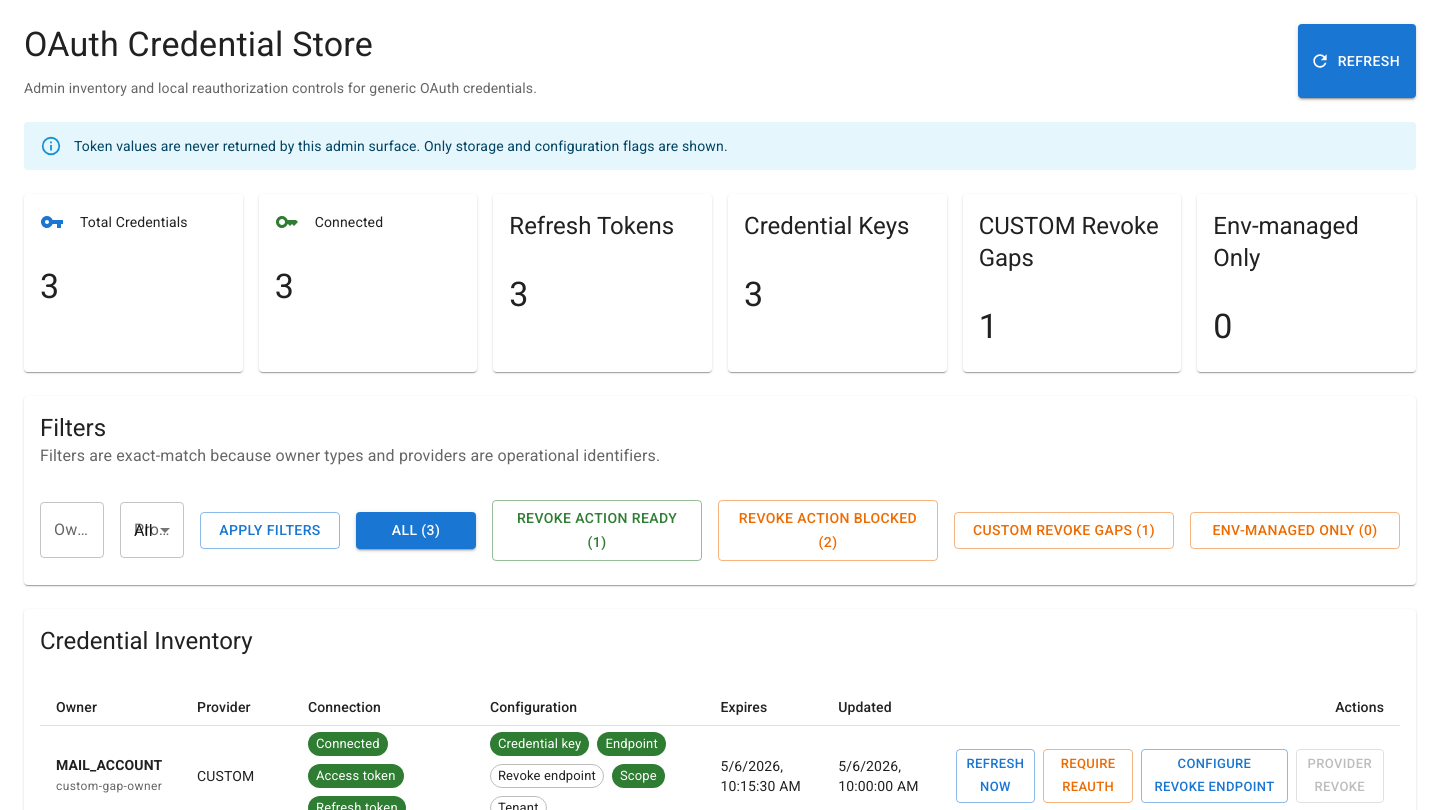
it: filters to CUSTOM credentials missing a revoke endpoint
Expected: the text "custom-gap-owner" is shown, [56, 779, 162, 793]
What coordinates should you click on to do the following:
click the button "CUSTOM revoke gaps (1)"
I would click on:
 (1064, 530)
Its box is [954, 512, 1174, 549].
(page scrolled)
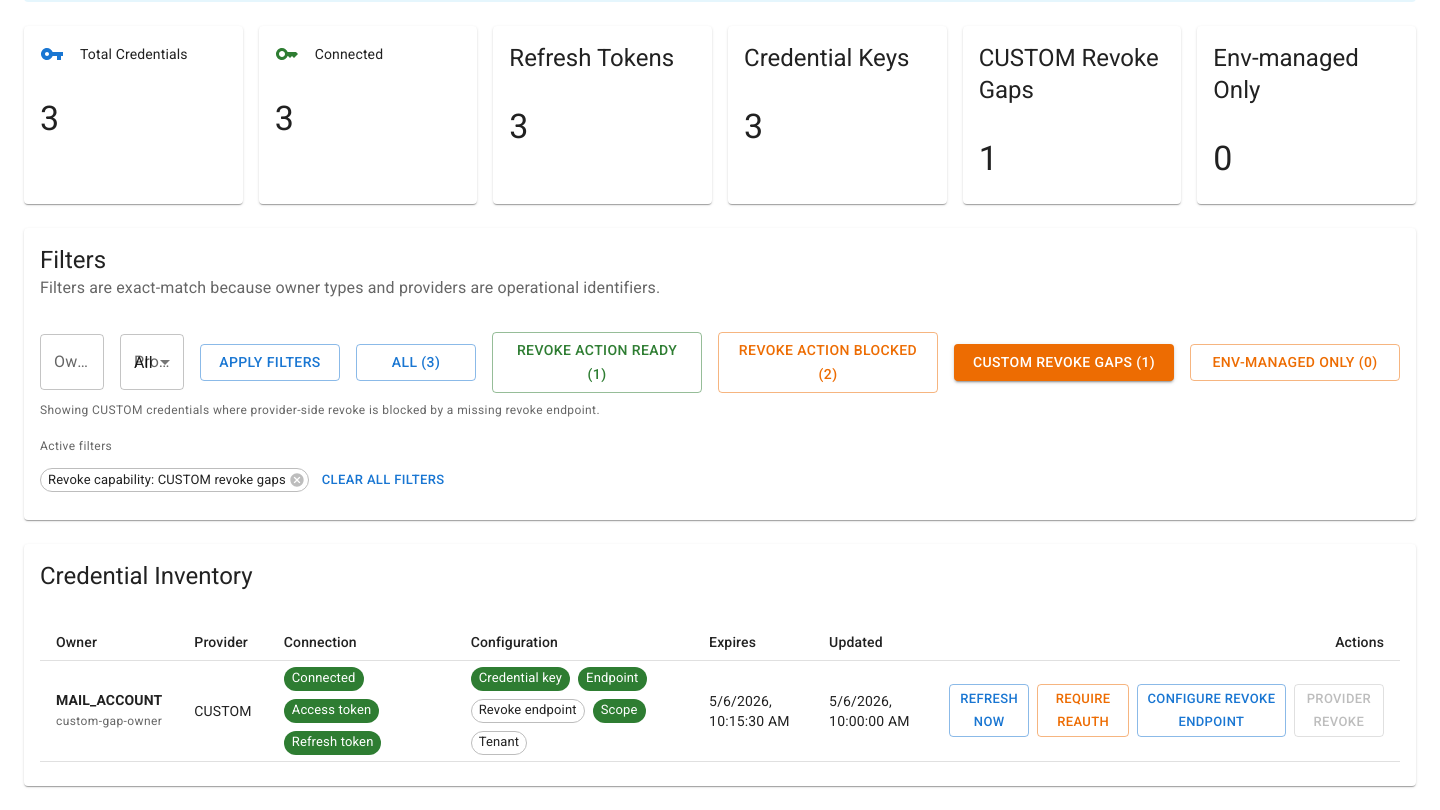
Expected: the text "custom-gap-owner" is shown, [56, 714, 162, 728]
Expected: the text "Showing CUSTOM credentials where provider-side revoke is blocked by a missing revoke endpoint." is shown, [40, 403, 600, 417]
